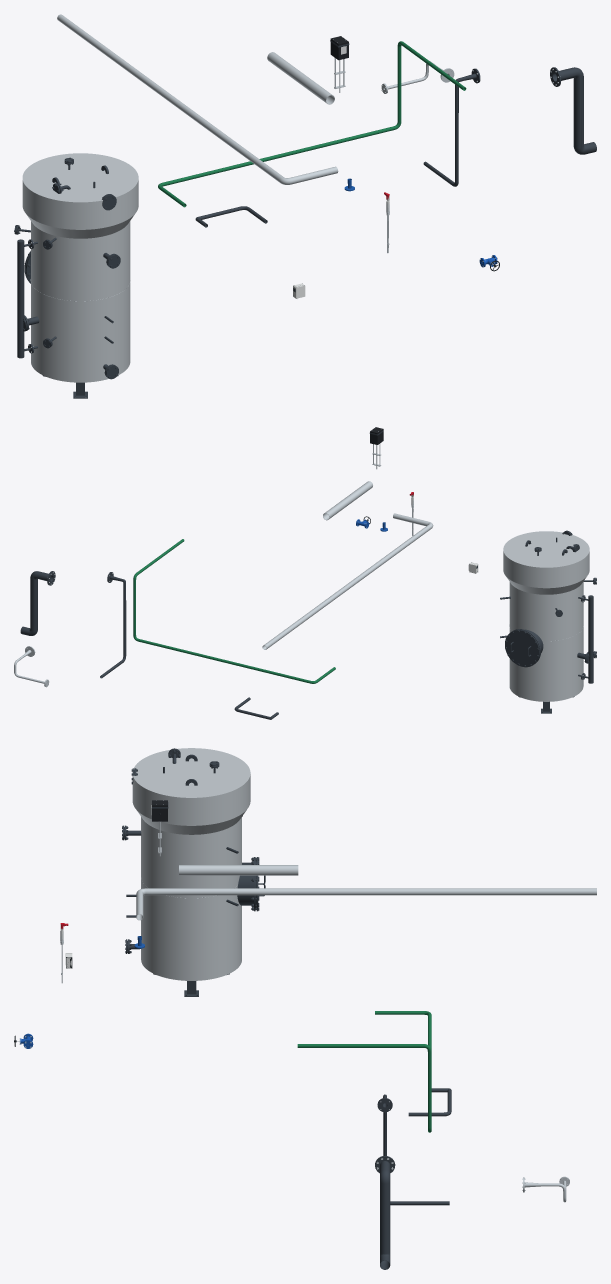
Rendered from s4000-1-DTPKJU9N.glb.
3 views of the same model, one above another, from view 1: azimuth 30°, elevation 25°; view 2: azimuth 150°, elevation 25°; view 3: azimuth 270°, elevation 25° (orthographic). The views are drawn at different scales.
Parts seen in each view (by area): view 1: deaerator / shell, safety_vent_1 / steel, to_economizer / green, bdv_water_drain / dark, deaerator / dark, steam_delivery / steel, bottom_to_bdv / dark; view 2: deaerator / shell, safety_vent_1 / steel, to_economizer / green, DA3 CAD 76, bdv_water_drain / dark, deaerator / dark, bottom_to_bdv / dark, steam_delivery / steel; view 3: deaerator / shell, safety_vent_1 / steel, bdv_water_drain / dark, steam_delivery / steel, to_economizer / green.
Part boxes in pixels (<box>): deaerator / shell: <box>22,153,138,382</box>; safety_vent_1 / steel: <box>57,14,338,184</box>; to_economizer / green: <box>158,41,466,207</box>; bdv_water_drain / dark: <box>550,67,596,154</box>; deaerator / dark: <box>17,239,37,358</box>; steam_delivery / steel: <box>267,52,334,104</box>; bottom_to_bdv / dark: <box>423,68,480,186</box>; deaerator / shell: <box>503,531,589,701</box>; safety_vent_1 / steel: <box>262,513,433,649</box>; to_economizer / green: <box>133,539,335,683</box>; DA3 CAD 76: <box>505,629,539,667</box>; bdv_water_drain / dark: <box>20,571,55,635</box>; deaerator / dark: <box>578,595,593,683</box>; bottom_to_bdv / dark: <box>100,572,126,678</box>; steam_delivery / steel: <box>323,481,372,520</box>; deaerator / shell: <box>132,748,250,980</box>; safety_vent_1 / steel: <box>136,888,596,920</box>; bdv_water_drain / dark: <box>375,1156,395,1269</box>; steam_delivery / steel: <box>179,865,298,875</box>; to_economizer / green: <box>297,1011,431,1132</box>.
Bounding box in the file's own units: 8.55 × 3.57 × 6.33.
